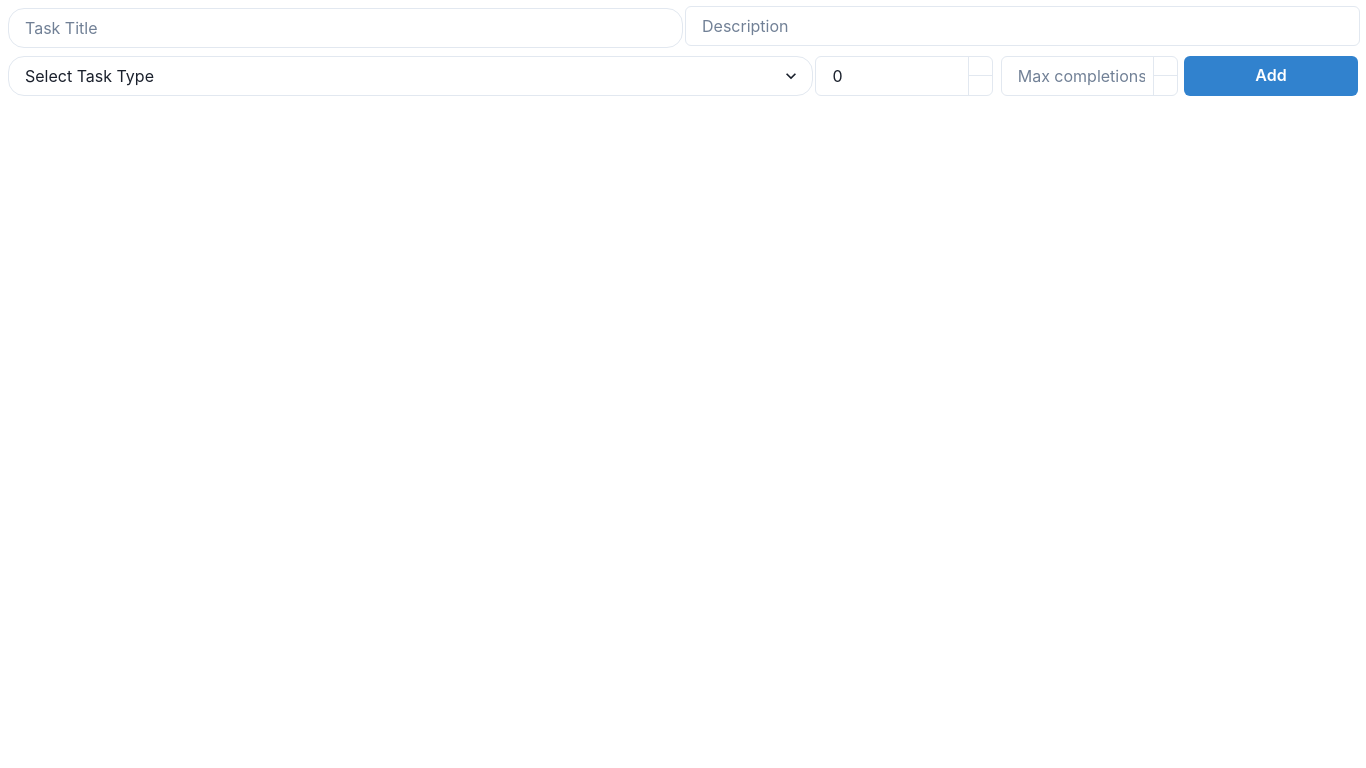
Scenario: TaskCreation (improvements item 15) › shows an error toast instead of creating the task when addTaskForRoom rejects
Type "Find the clue" into the field with placeholder "Task Title" at (346, 28), box [8,8,683,48]
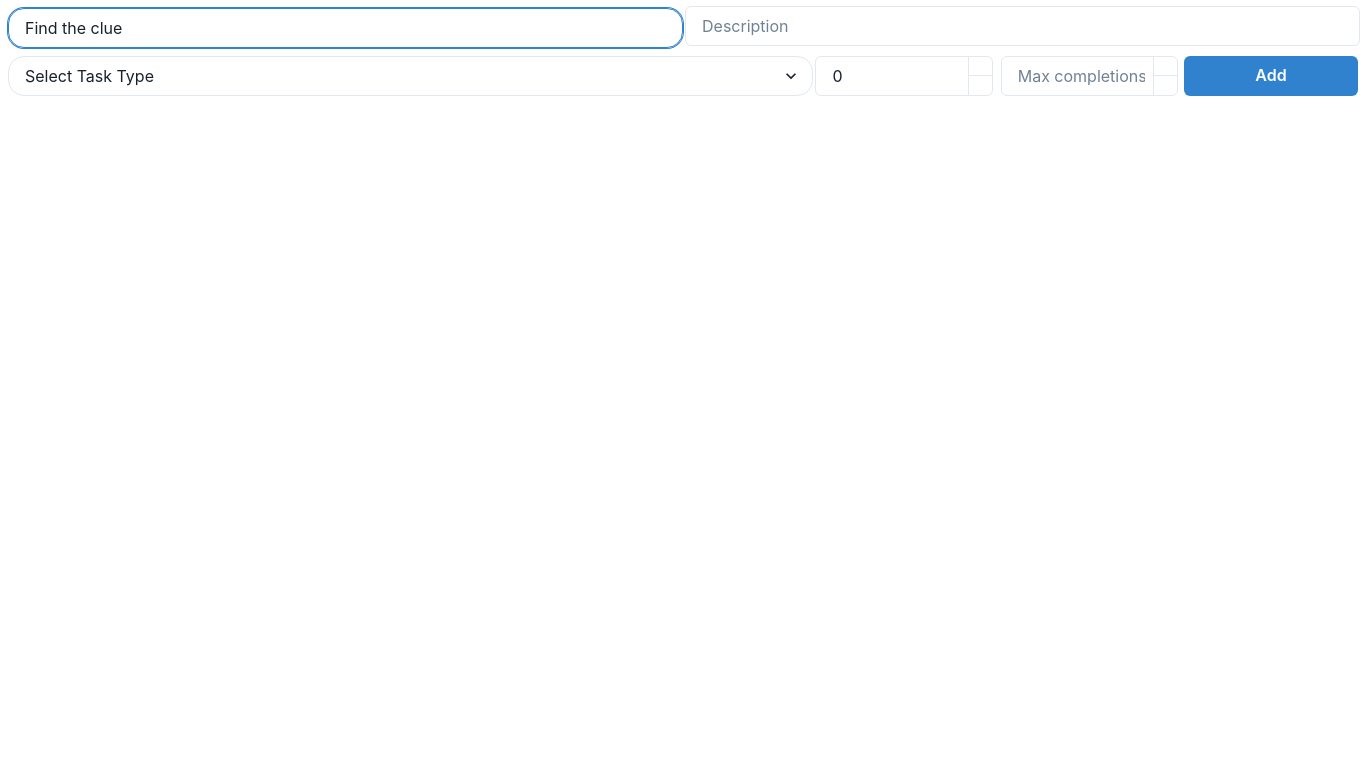
Select "Revival Mission" in the dropdown at (411, 76), box [8,56,813,96]
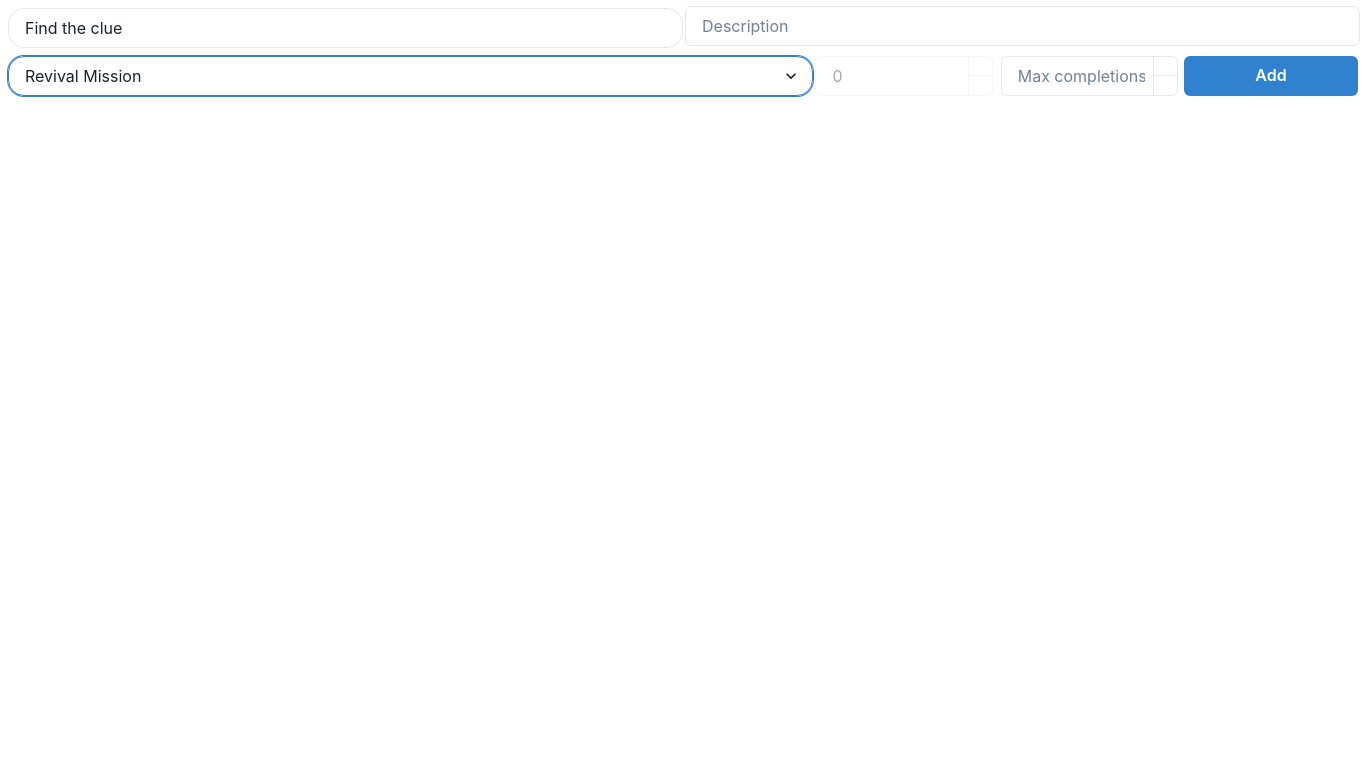
Click the button "Add" at (1271, 76), box [1184,56,1358,96]
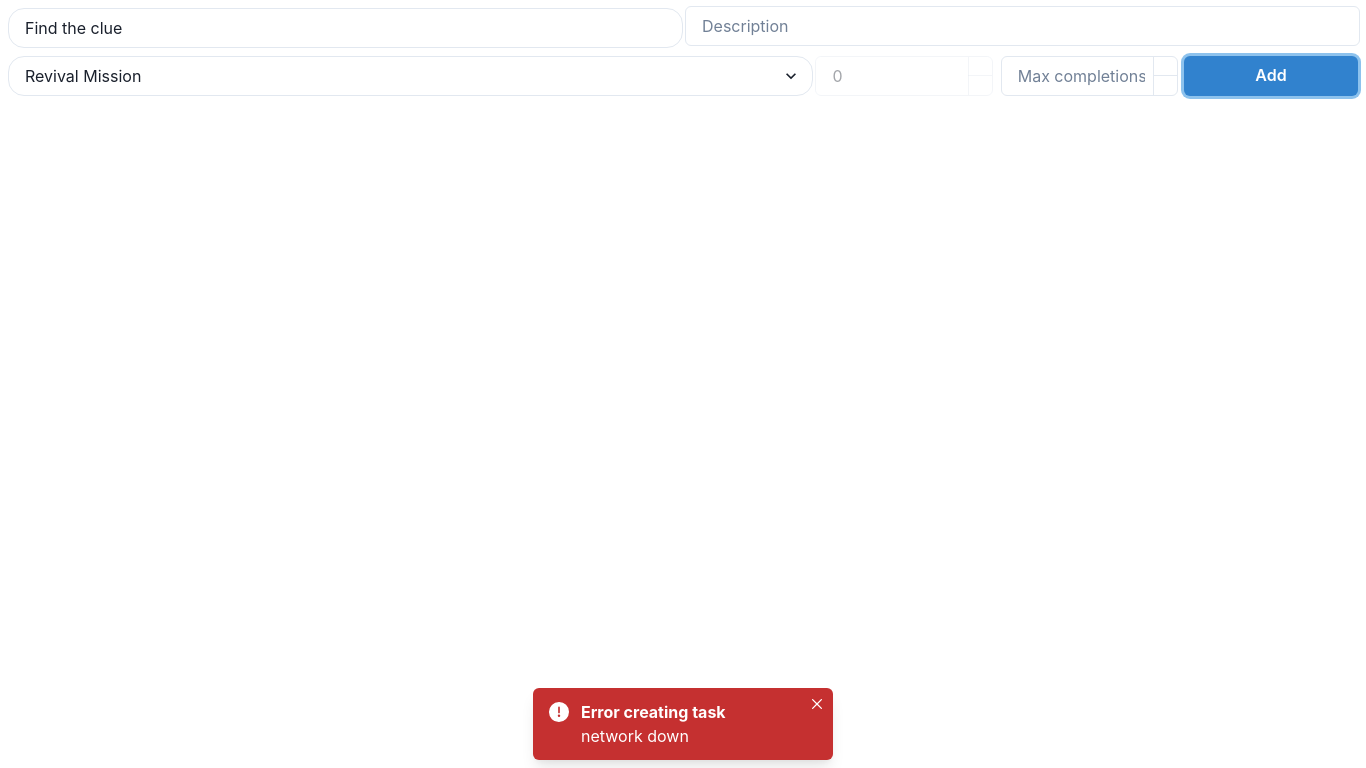
Expected: the text "network down" is shown, [581,726,689,746]
